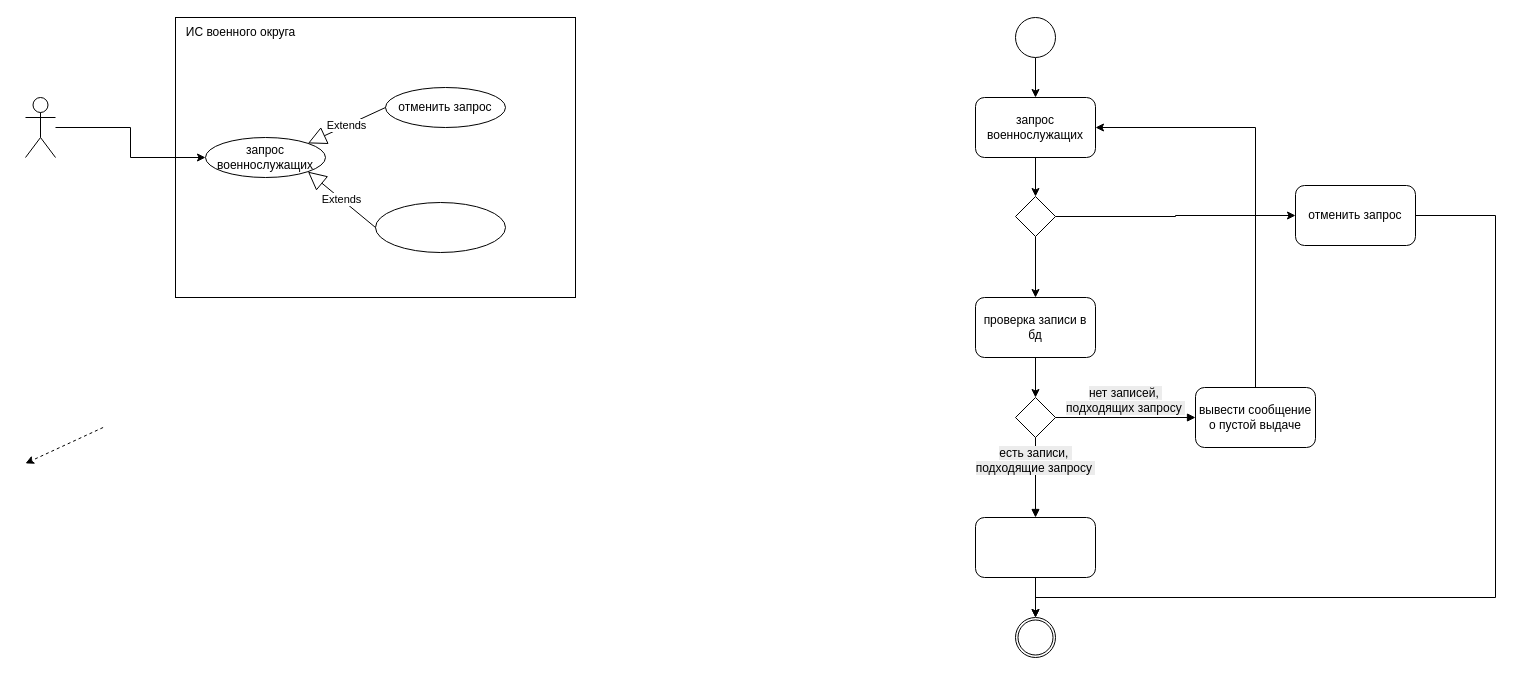
The diagram is 1521 pixels wide and 675 high, and some of its shapes have lost their labels. Here are the shapes that lost their labels. From the top down, the box of each, then its label:
(24, 96, 56, 158): Офицер
(374, 202, 506, 252): сообщить о пустой выдаче
(974, 516, 1096, 578): вывести перечень военнослужащих
